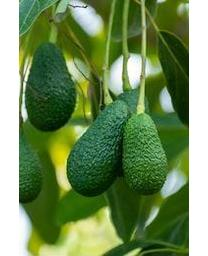avocado: (67, 99, 132, 197), (25, 42, 77, 131), (121, 113, 169, 196)
